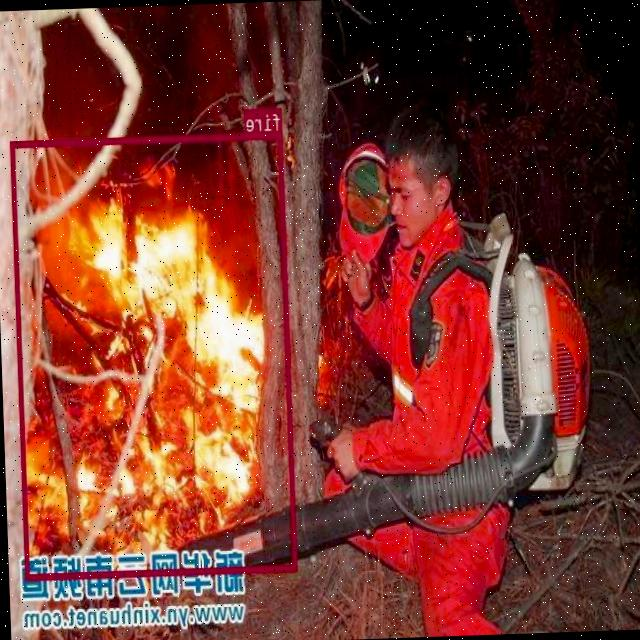fire: (11, 130, 298, 580)
